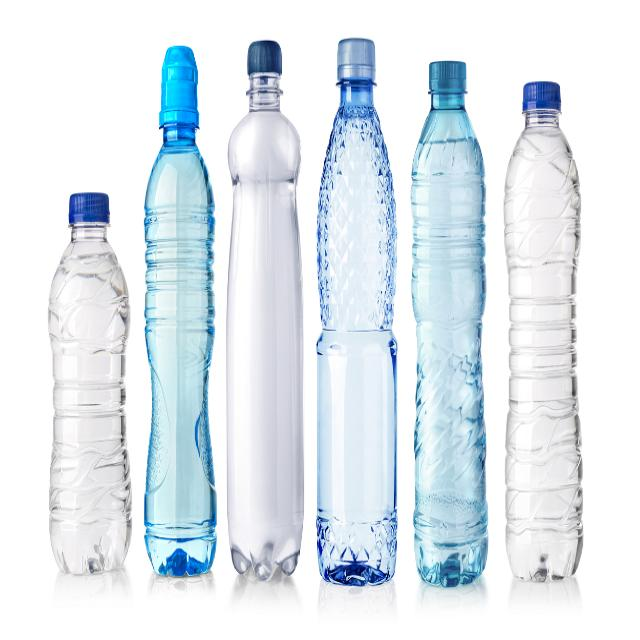Plastic: (8, 147, 138, 588), (502, 67, 602, 600), (129, 28, 225, 574), (315, 28, 403, 602), (221, 31, 311, 579), (408, 50, 497, 591)
